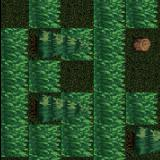Obstacle: (124, 124, 158, 156), (126, 28, 158, 61), (28, 28, 60, 61), (28, 93, 60, 124)
Slow: (92, 0, 124, 160), (0, 29, 28, 158), (60, 92, 92, 156), (28, 124, 61, 160), (124, 92, 158, 125), (60, 28, 93, 61), (28, 61, 61, 92), (125, 0, 156, 28), (28, 0, 60, 27)
